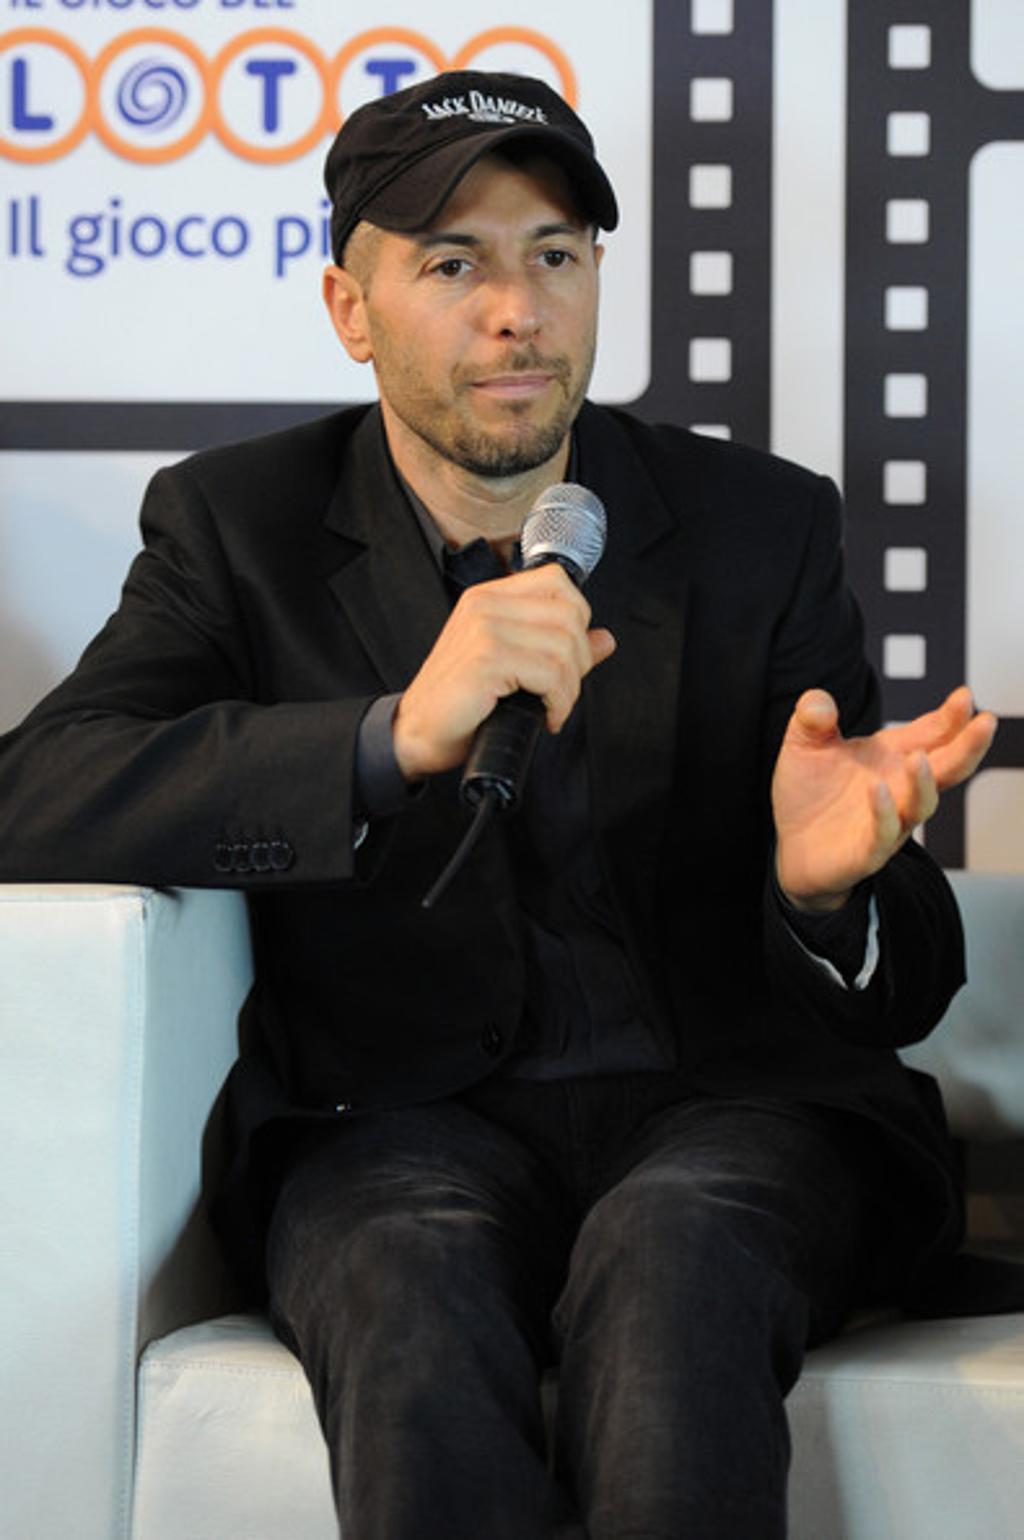face: (367, 120, 599, 463)
